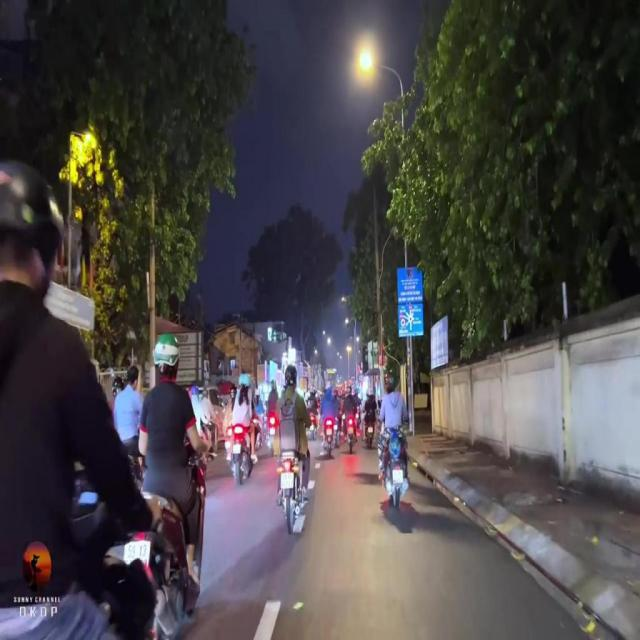khac: (398, 304, 423, 338)
